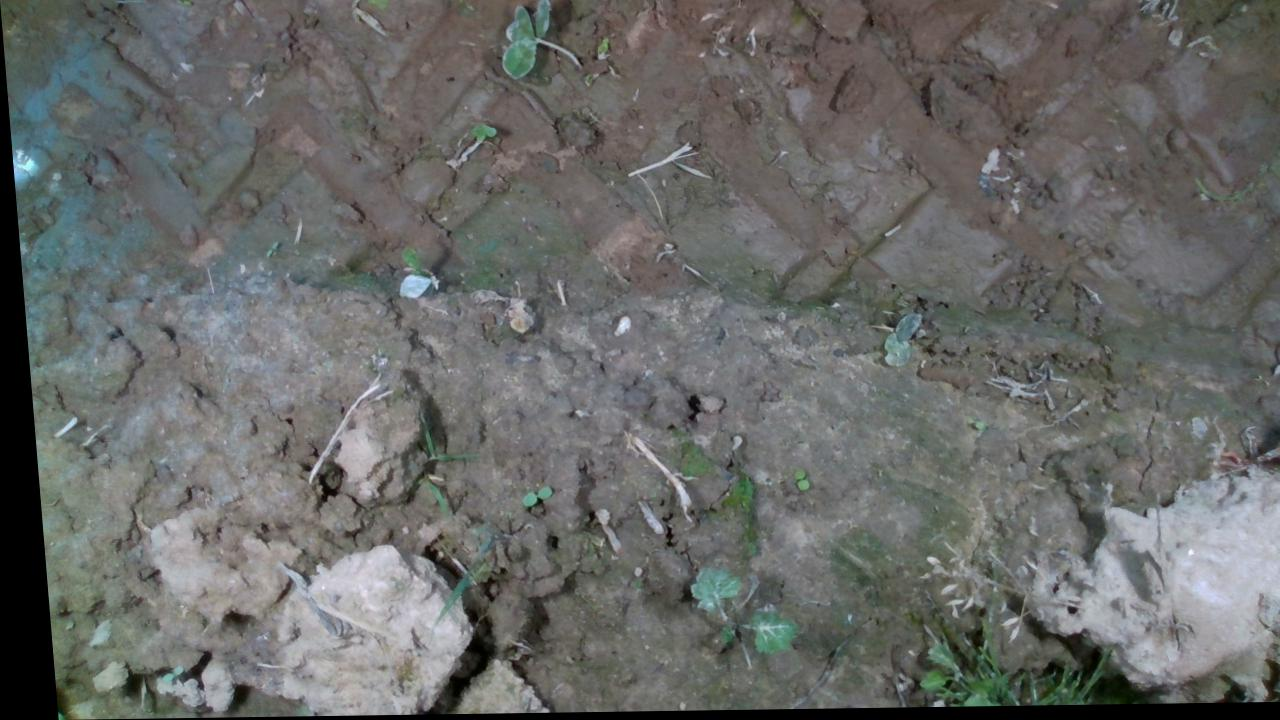weed: (508, 484, 545, 510), (782, 466, 802, 494)
